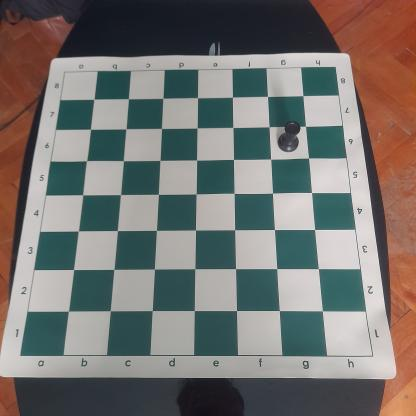black-rook: (276, 120, 303, 154)
